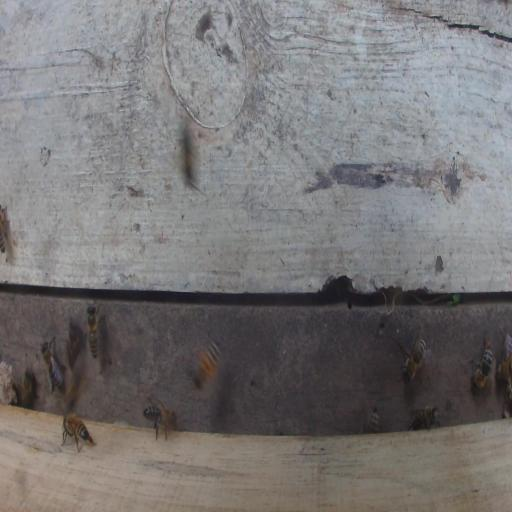bee: (193, 336, 225, 392), (400, 332, 429, 383), (61, 412, 97, 453), (469, 333, 493, 391), (142, 402, 177, 441), (41, 337, 64, 393), (408, 405, 441, 430), (86, 301, 99, 362), (67, 319, 82, 369), (497, 333, 511, 384), (21, 368, 34, 408), (367, 406, 379, 433), (0, 205, 6, 254)
